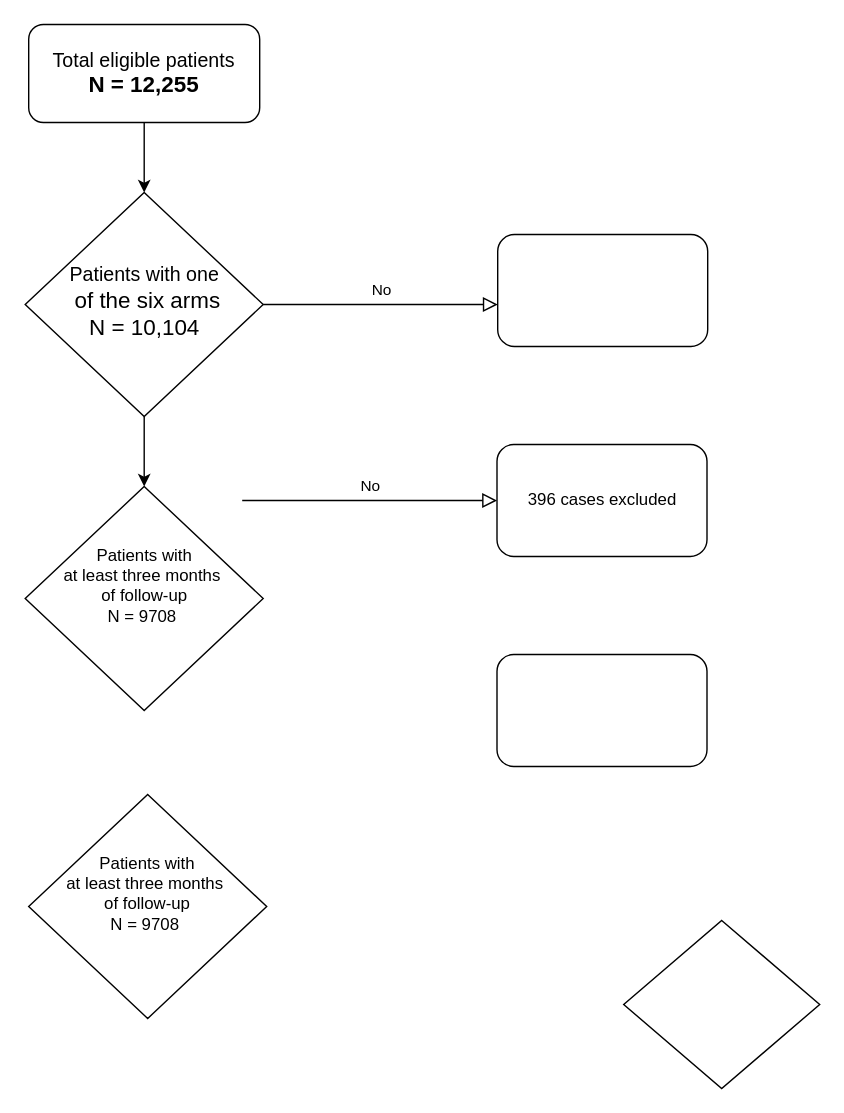
This 844x1113 diagram has some shape labels left out. The shapes that lost their labels are listed below. From the top down, each one's centre as x and y in pixels, then its label:
At point (602, 289): "2151 cases excluded".
At point (601, 709): "Plug in lamp".
At point (721, 1003): "Patients with one of the six arms".
